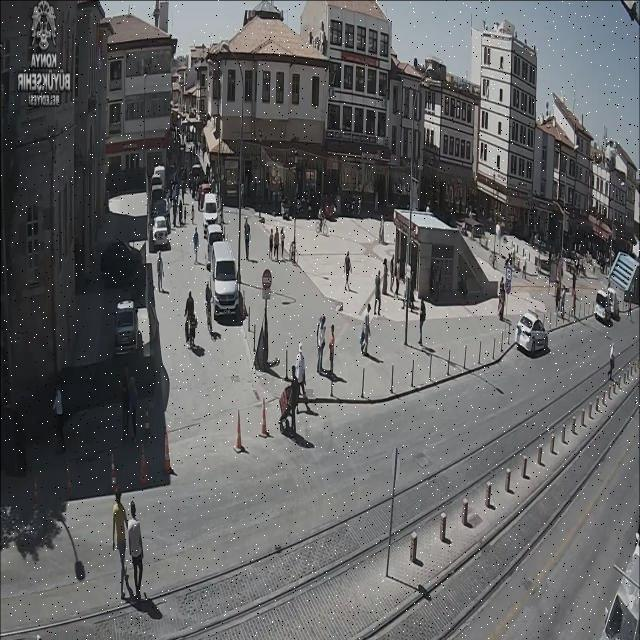Car: (512, 308, 552, 357), (591, 289, 614, 331), (148, 215, 172, 247), (204, 222, 222, 254)
Van: (206, 242, 244, 324), (203, 188, 217, 228)
